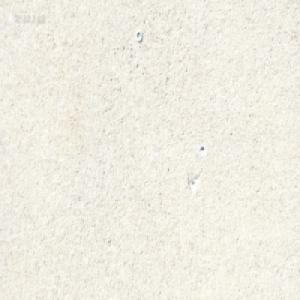Washer: (135, 29, 142, 42)
